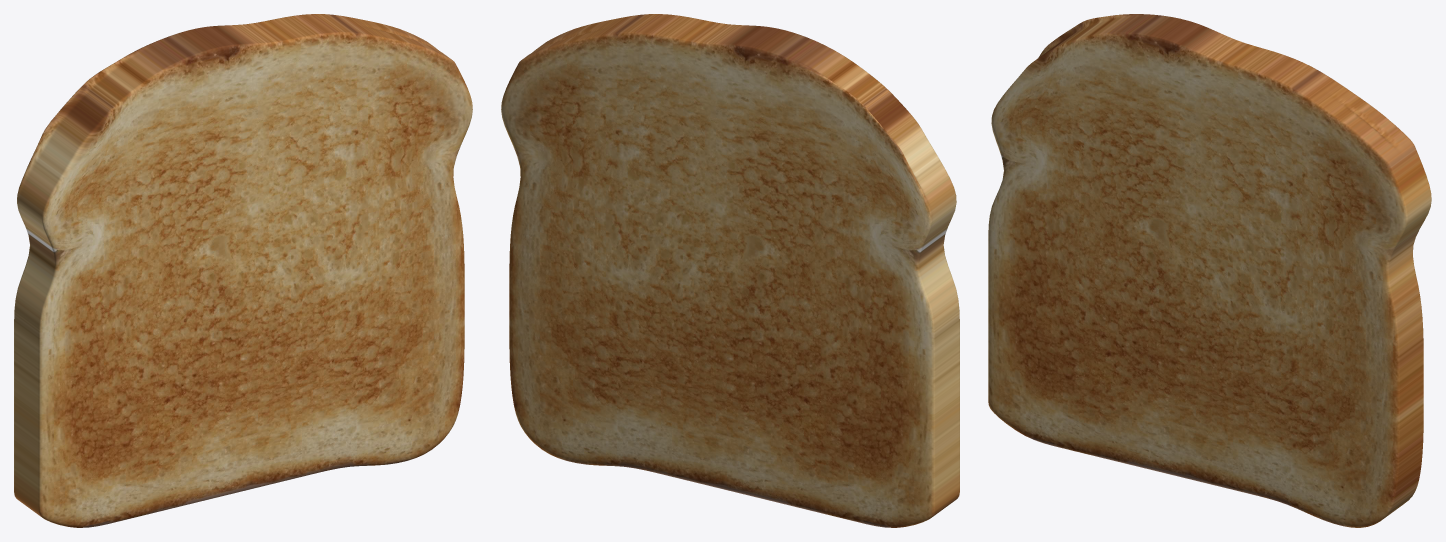
The model's file is toast.fbx.
The picture shows the model from 3 angles, left to right: view 1: azimuth 30°, elevation 25°; view 2: azimuth 150°, elevation 25°; view 3: azimuth 330°, elevation 25°; orthographic projection. The views are drawn at different scales.
Visible parts, largest first — view 1: Cube; view 2: Cube; view 3: Cube.
Part boxes in pixels (x1,y1,x2,y2): Cube: (14, 14, 472, 527); Cube: (501, 14, 959, 527); Cube: (988, 14, 1431, 527).
Bounding box in the file's own units: 6.21 × 6.29 × 0.7194.
1 material, 1 textured.
